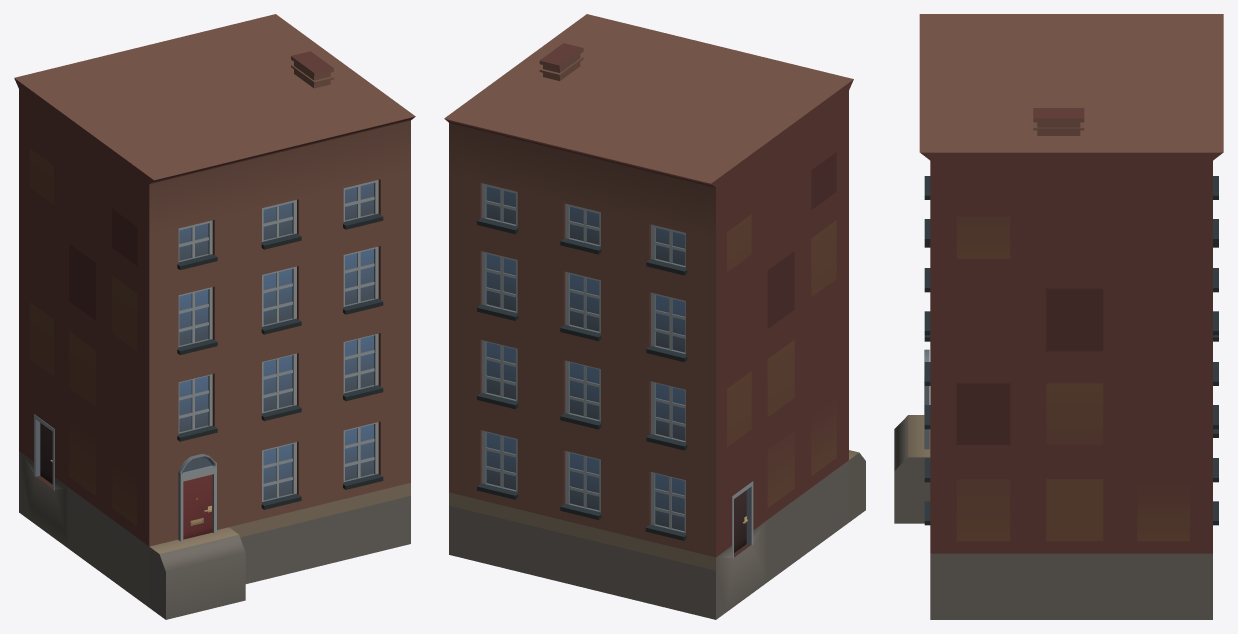
Rendered from buildings-residential-georgianhome_v5.glb.
3 renders of one model, left to right at view 1: azimuth 30°, elevation 25°; view 2: azimuth 150°, elevation 25°; view 3: azimuth 270°, elevation 25°, orthographic. The views are drawn at different scales.
Visible parts, largest first — view 1: GeorgianHome_v5_base, GeorgianHome_v5_windowRefl; view 2: GeorgianHome_v5_base, GeorgianHome_v5_windowRefl; view 3: GeorgianHome_v5_base.
Boxes of the visible parts, x1,y1,x2,y2 form: GeorgianHome_v5_base: [14, 14, 415, 619]; GeorgianHome_v5_windowRefl: [179, 183, 373, 500]; GeorgianHome_v5_base: [444, 14, 865, 619]; GeorgianHome_v5_windowRefl: [486, 186, 685, 531]; GeorgianHome_v5_base: [894, 14, 1223, 619].
Bounding box in the file's own units: 10.81 × 17.64 × 10.83.
